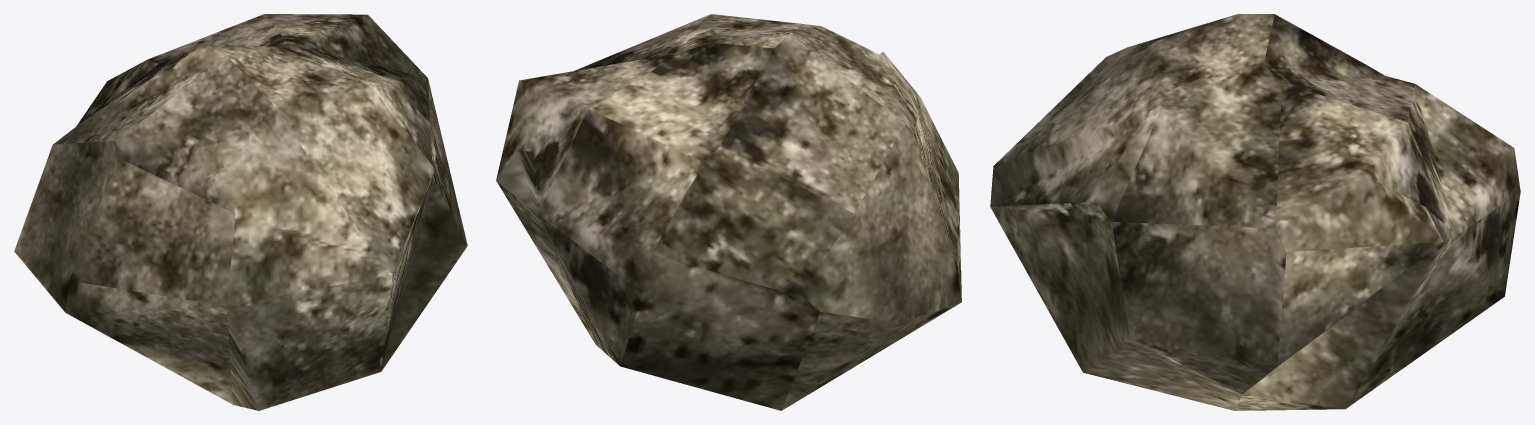
Rendered from Asteroid3-low.glb.
3 renders of one model, left to right at view 1: azimuth 30°, elevation 25°; view 2: azimuth 150°, elevation 25°; view 3: azimuth 270°, elevation 25°, orthographic. The views are drawn at different scales.
Parts seen in each view (by area): view 1: mesh_node; view 2: mesh_node; view 3: mesh_node.
Boxes of the visible parts, x1=… form: mesh_node: x1=14, y1=14, x2=467, y2=410; mesh_node: x1=496, y1=14, x2=961, y2=410; mesh_node: x1=990, y1=14, x2=1520, y2=410.
Size of the model in its own units: 0.9063 by 0.7304 by 0.9824.
Materials: 1 (1 with a texture image).
